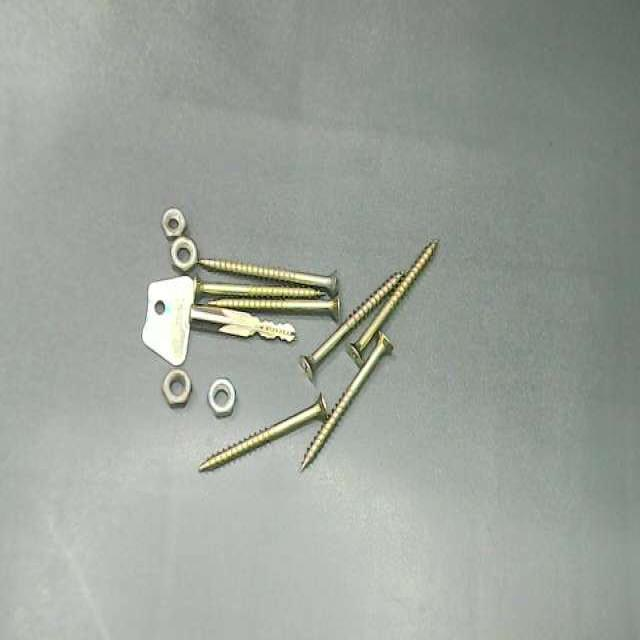Parafuso: (300, 332, 392, 470), (299, 272, 403, 379), (350, 242, 437, 366), (199, 394, 327, 471), (171, 235, 337, 294), (207, 298, 340, 321), (187, 276, 322, 298)
Porca: (162, 368, 190, 407), (208, 378, 235, 417), (171, 236, 196, 271), (161, 208, 185, 238)
